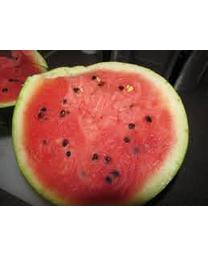watermelon: (16, 61, 189, 205)
